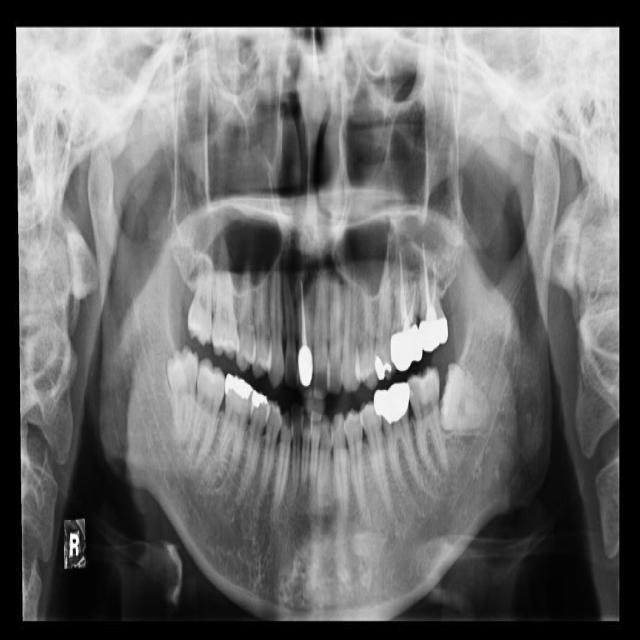52: (382, 323, 432, 374), (372, 381, 413, 427), (417, 317, 451, 353), (219, 372, 256, 404), (297, 345, 314, 387), (366, 356, 393, 382), (247, 390, 271, 411)
73: (406, 239, 446, 325), (391, 246, 425, 339), (295, 271, 311, 353), (554, 590, 566, 609)
BioHorizons Implant: (412, 239, 450, 353)
Biomet 3i Implant: (436, 362, 498, 438)
Blue Sky Bio Implant: (405, 365, 450, 479)
Caries: (186, 223, 217, 347)
Implant: (188, 358, 228, 465)
Keystone Dental Implant: (163, 345, 199, 440)
